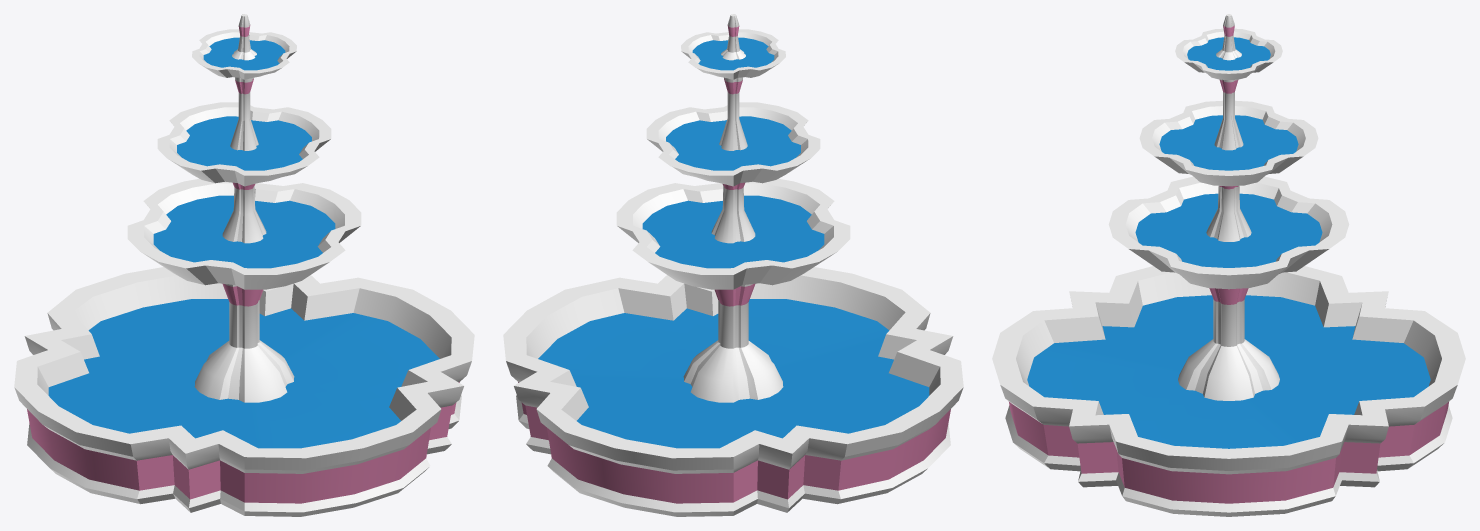
Rendered from fountain.fbx.
3 views of the same model, side by side, from view 1: azimuth 30°, elevation 25°; view 2: azimuth 150°, elevation 25°; view 3: azimuth 270°, elevation 25° (orthographic).
Parts seen in each view (by area): view 1: fountain; view 2: fountain; view 3: fountain.
Boxes of the visible parts, x1=… form: fountain: x1=14, y1=14, x2=474, y2=516; fountain: x1=503, y1=14, x2=963, y2=516; fountain: x1=992, y1=14, x2=1465, y2=516.
Bounding box in the file's own units: 24.09 × 23.03 × 24.09.
